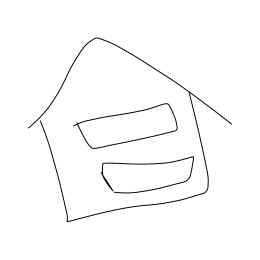open_window: (70, 101, 182, 150), (98, 152, 198, 197)
single_line_roof: (14, 32, 233, 134)
wall: (40, 85, 215, 228)
